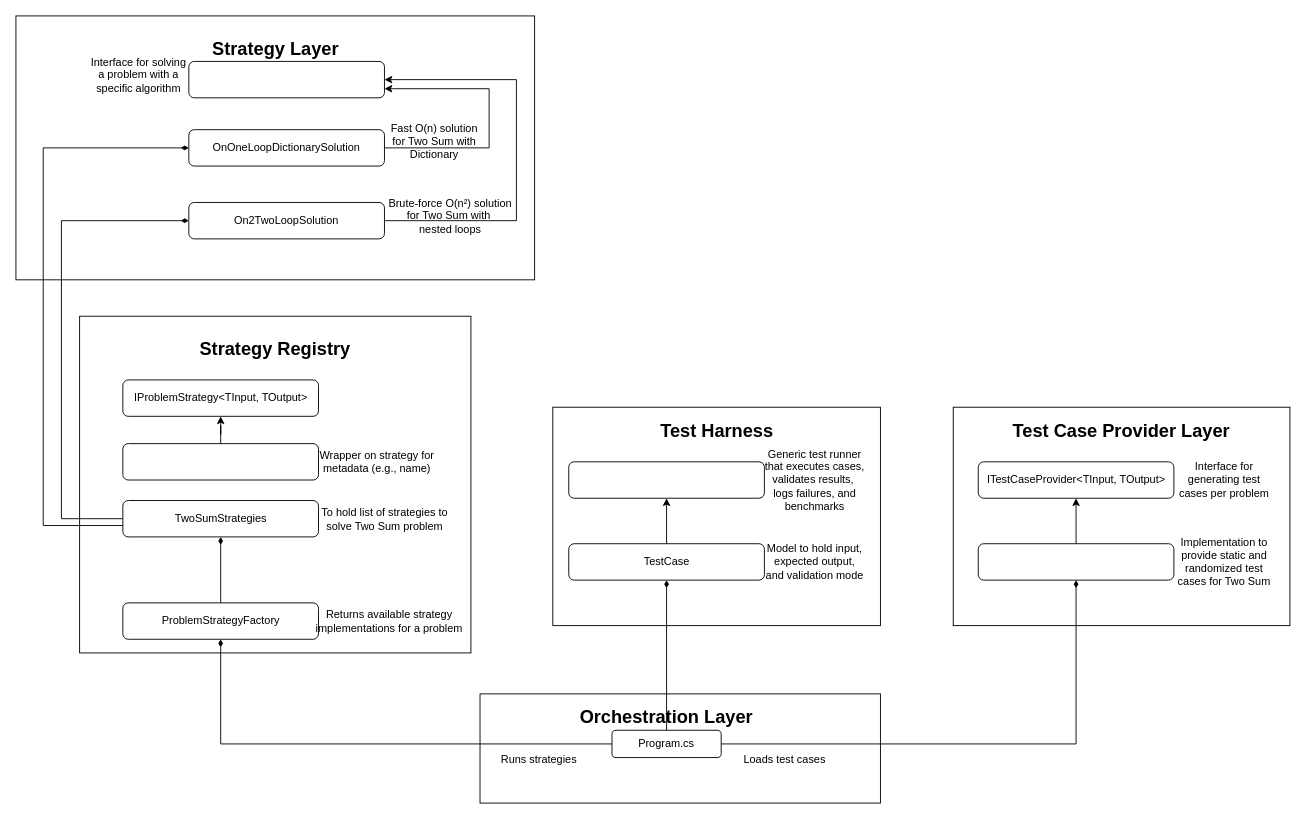
Image size: 1306x819. Some labels were removed from this diagram. The shapes that lost their labels are listed below. From the top down, each one's centre as x and y in pixels, then its label:
At pixel 286 79: "IProblemSolution<TInput, TOutput>".
At pixel 220 461: "ProblemStrategy<TInput, TOutput>".
At pixel 666 479: "ProblemTest<TInput, TOutput>".
At pixel 1075 561: "TwoSumTestCaseProvider".
